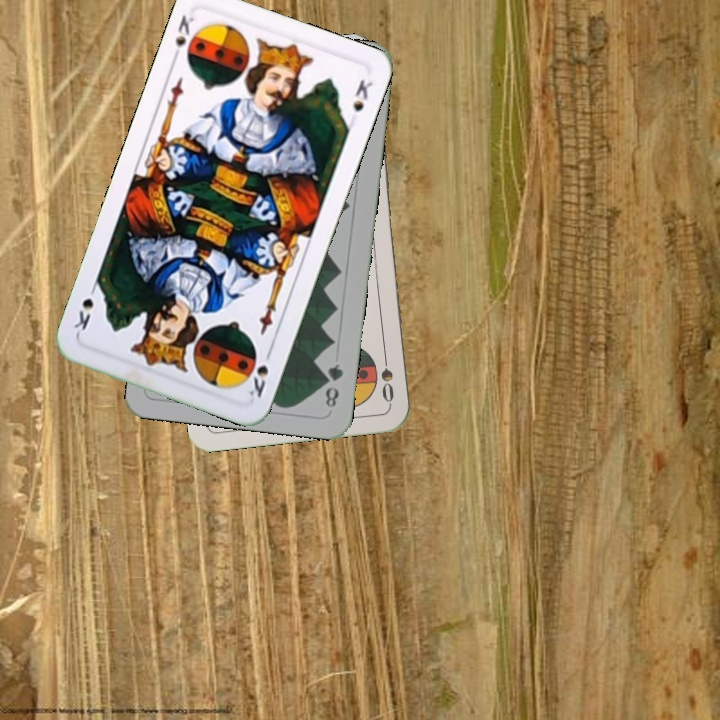G8: (320, 359, 346, 410)
SK: (242, 345, 275, 401), (168, 11, 197, 65)
SO: (376, 347, 397, 406)
